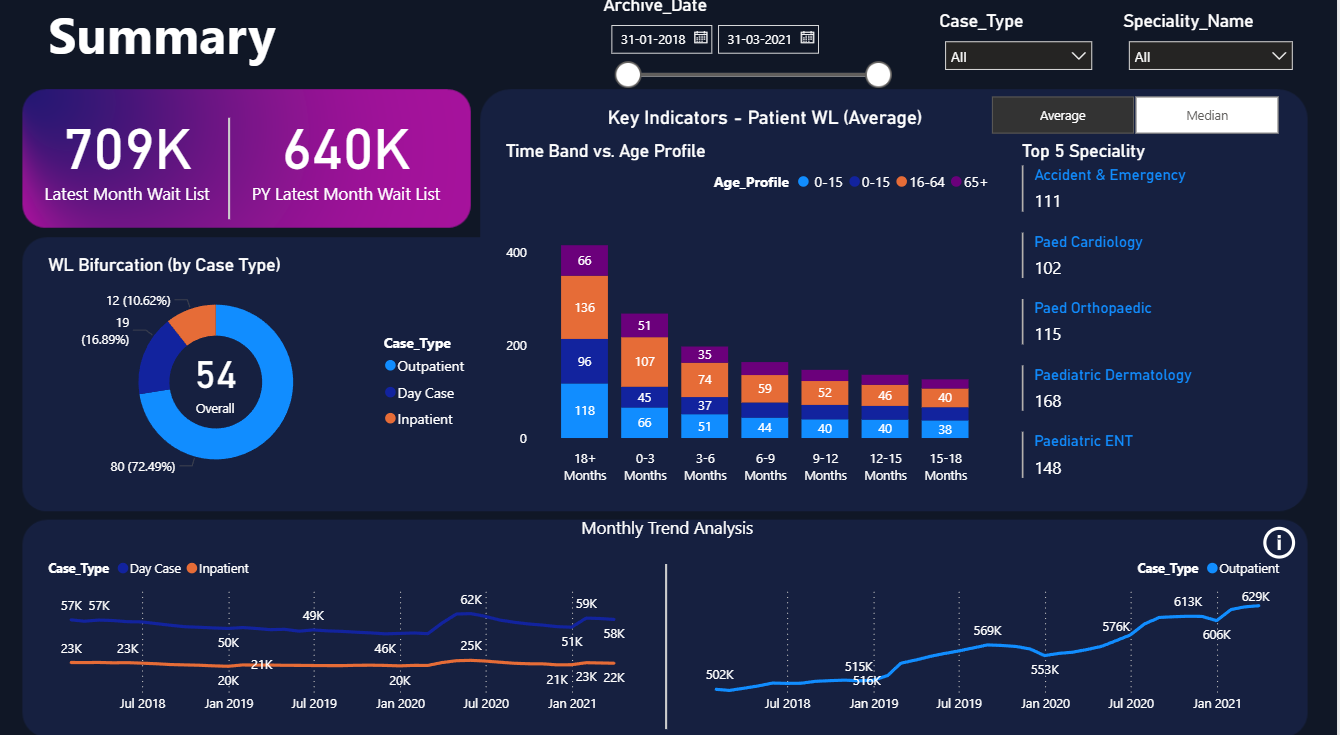

This screenshot's page, from the dashboard's own definition file:
{"tool":"powerbi","page":{"name":"Summary","canvas":[1280,720],"ordinal":0},"visuals":[{"type":"card","fields":{"Values":["Measures_Alldata.Latest Month Wait List"]},"box":[0,80,256,144],"z":0},{"type":"card","fields":{"Values":["Measures_Alldata.PY Latest Month Wait List"]},"box":[208,80,256,144],"z":1000},{"type":"slicer","title":"Archive_Date","fields":{"Values":["All_Data.Archive_Date"]},"box":[576,0,288,96],"z":2000},{"type":"slicer","title":"Case_Type","fields":{"Values":["All_Data.Case_Type"]},"box":[896,16,160,64],"z":3000},{"type":"slicer","title":"Speciality_Name","fields":{"Values":["All_Data.Specialty_Name"]},"box":[1072,16,176,64],"z":4000},{"type":"textbox","box":[47.9,0,383.5,80.3],"z":5000},{"type":"shape","box":[215,118.3,18.8,96.7],"z":6000},{"type":"donutChart","title":"WL Bifurcation (by Case Type)","fields":{"Y":["Measures_Alldata.Selected Measure"],"Category":["All_Data.Case_Type"]},"box":[47.6,248.2,415.5,225.1],"z":7000},{"type":"slicer","fields":{"Values":["Calc.Calc_Columns"]},"box":[924.8,90.9,323.2,49.1],"z":8000},{"type":"card","fields":{"Values":["Measures_Alldata.Avg_Med WL"]},"box":[174.6,321.7,73.6,92.3],"z":9000},{"type":"columnChart","title":"Time Band vs. Age Profile","fields":{"Y":["Measures_Alldata.Selected Measure"],"Category":["All_Data.Time_Bands"],"Series":["All_Data.Age_Profile"]},"box":[483.3,139.3,475,334.5],"z":10000},{"type":"multiRowCard","title":"Top 5 Speciality","fields":{"Values":["All_Data.Specialty_Name","Measures_Alldata.Selected Measure"]},"box":[975,139.3,272.6,352.4],"z":12000},{"type":"card","fields":{"Values":["Measures_Alldata.No Data Left"]},"box":[79.4,562.7,463.1,102.4],"z":12500},{"type":"lineChart","fields":{"Category":["All_Data.Archive_Date"],"Y":["Sum(All_Data.Total)"],"Series":["All_Data.Case_Type"]},"box":[47.9,527.3,572.9,166.6],"z":13000},{"type":"card","fields":{"Values":["Measures_Alldata.No Data Right"]},"box":[707,562.7,463.1,102.4],"z":13500},{"type":"lineChart","fields":{"Category":["All_Data.Archive_Date"],"Y":["Sum(All_Data.Total)"],"Series":["All_Data.Case_Type"]},"box":[661.6,527.3,572.9,166.6],"z":14000},{"type":"shape","box":[630.5,542.5,20.2,157.3],"z":15000},{"type":"textbox","box":[388.3,491.4,508.2,36],"z":16000},{"type":"card","fields":{"Values":["Measures_Alldata.Dy Title"]},"box":[532.1,96.4,406,42.9],"z":17000},{"type":"actionButton","box":[1204.7,502.1,43.3,40.4],"z":17001}]}

Visuals, with their boxes in screenshot pixels (x1, y1, x2, y2), scaled from the page's 1280x720 canvas onto the 1340x735 screenshot:
card - Measures_Alldata.Latest Month Wait List: [0, 82, 268, 229]
card - Measures_Alldata.PY Latest Month Wait List: [218, 82, 486, 229]
"Archive_Date" slicer: [603, 0, 904, 98]
"Case_Type" slicer: [938, 16, 1106, 82]
"Speciality_Name" slicer: [1122, 16, 1306, 82]
textbox: [50, 0, 452, 82]
shape: [225, 121, 245, 219]
"WL Bifurcation (by Case Type)" donutChart: [50, 253, 485, 483]
slicer - Calc.Calc_Columns: [968, 93, 1306, 143]
card - Measures_Alldata.Avg_Med WL: [183, 328, 260, 423]
"Time Band vs. Age Profile" columnChart: [506, 142, 1003, 484]
"Top 5 Speciality" multiRowCard: [1021, 142, 1306, 502]
card - Measures_Alldata.No Data Left: [83, 574, 568, 679]
lineChart - All_Data.Archive_Date x Sum(All_Data.Total): [50, 538, 650, 708]
card - Measures_Alldata.No Data Right: [740, 574, 1225, 679]
lineChart - All_Data.Archive_Date x Sum(All_Data.Total): [693, 538, 1292, 708]
shape: [660, 554, 681, 714]
textbox: [407, 502, 939, 538]
card - Measures_Alldata.Dy Title: [557, 98, 982, 142]
actionButton: [1261, 513, 1306, 554]
